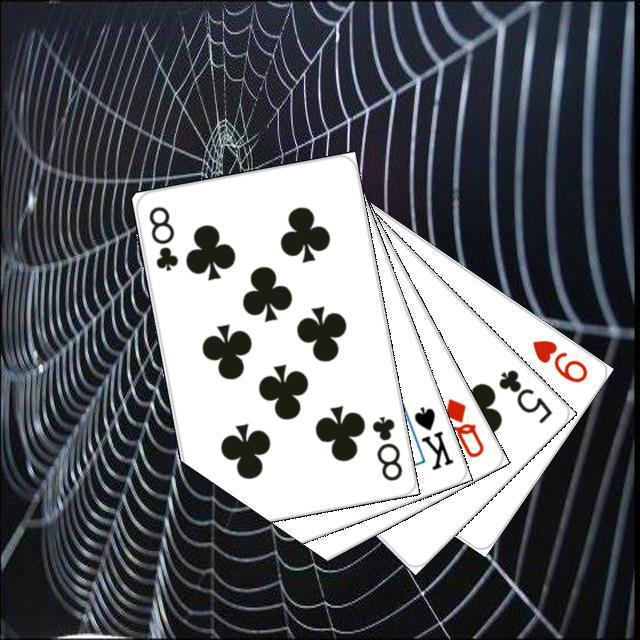5c: (493, 364, 554, 425)
8c: (367, 411, 404, 483), (143, 201, 180, 273)
9h: (526, 334, 590, 385)
Ks: (408, 401, 455, 472)
Qd: (439, 393, 486, 460)
